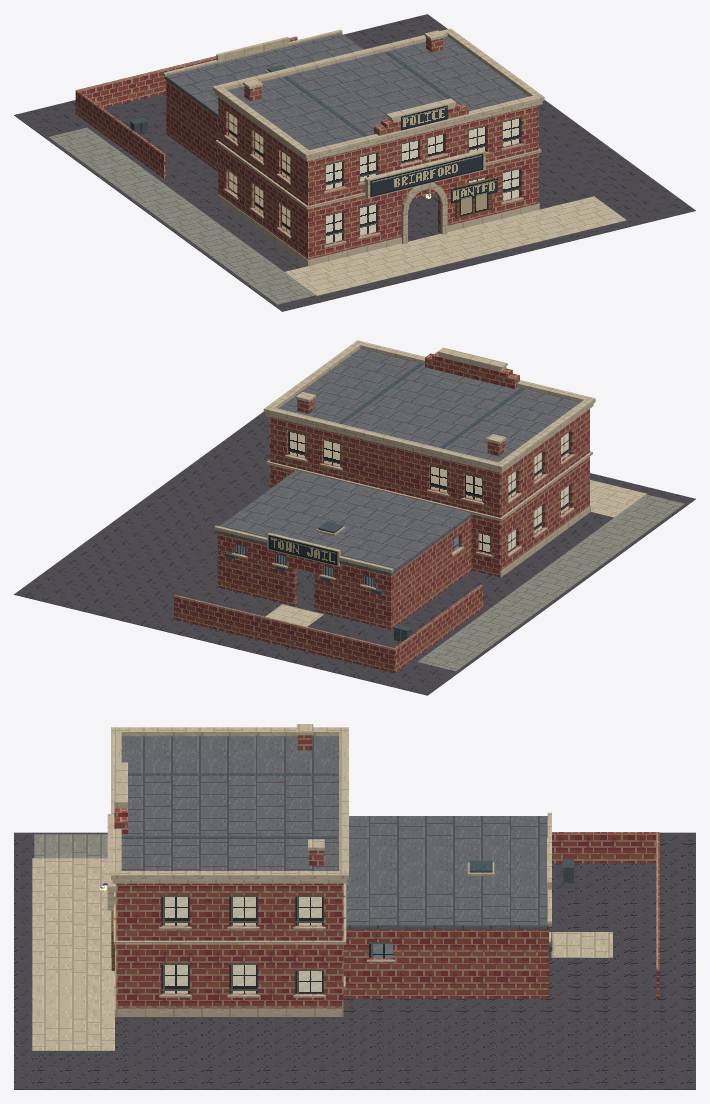
Rendered from briarford-1900-mid.glb.
3 views of the same model, one above another, from view 1: azimuth 30°, elevation 25°; view 2: azimuth 150°, elevation 25°; view 3: azimuth 270°, elevation 25° (orthographic). The views are drawn at different scales.
Visible parts, largest first — view 1: shell, lot, yard_fence, sign_name; view 2: shell, lot, yard_fence; view 3: shell, lot, yard_fence.
Part boxes in pixels (box(x1,y1,x2,y2)): shell: box(163, 28, 544, 266); lot: box(14, 14, 695, 311); yard_fence: box(75, 36, 297, 178); sign_name: box(370, 153, 483, 197); shell: box(214, 340, 595, 629); lot: box(14, 412, 695, 695); yard_fence: box(174, 584, 483, 672); shell: box(99, 724, 551, 1016); lot: box(14, 832, 695, 1089); yard_fence: box(552, 832, 659, 998).
Size of the model in its own units: 26.7 by 7.93 by 30.
Materials: 12 (12 with a texture image).
